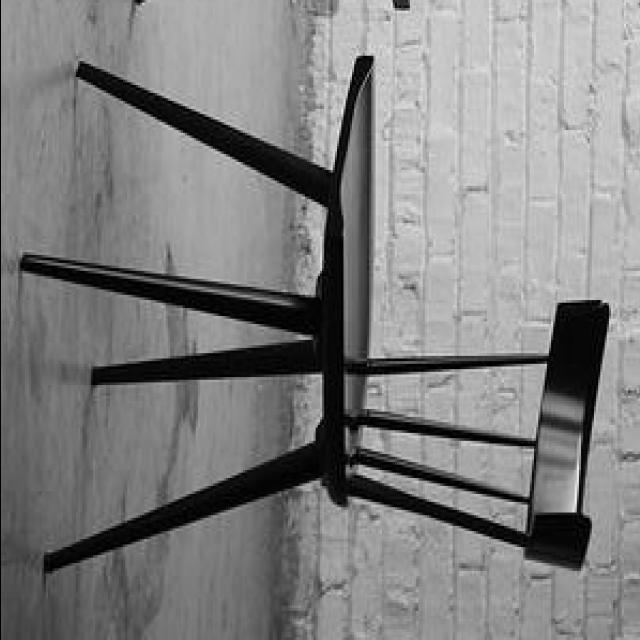chair: (22, 49, 618, 576)
